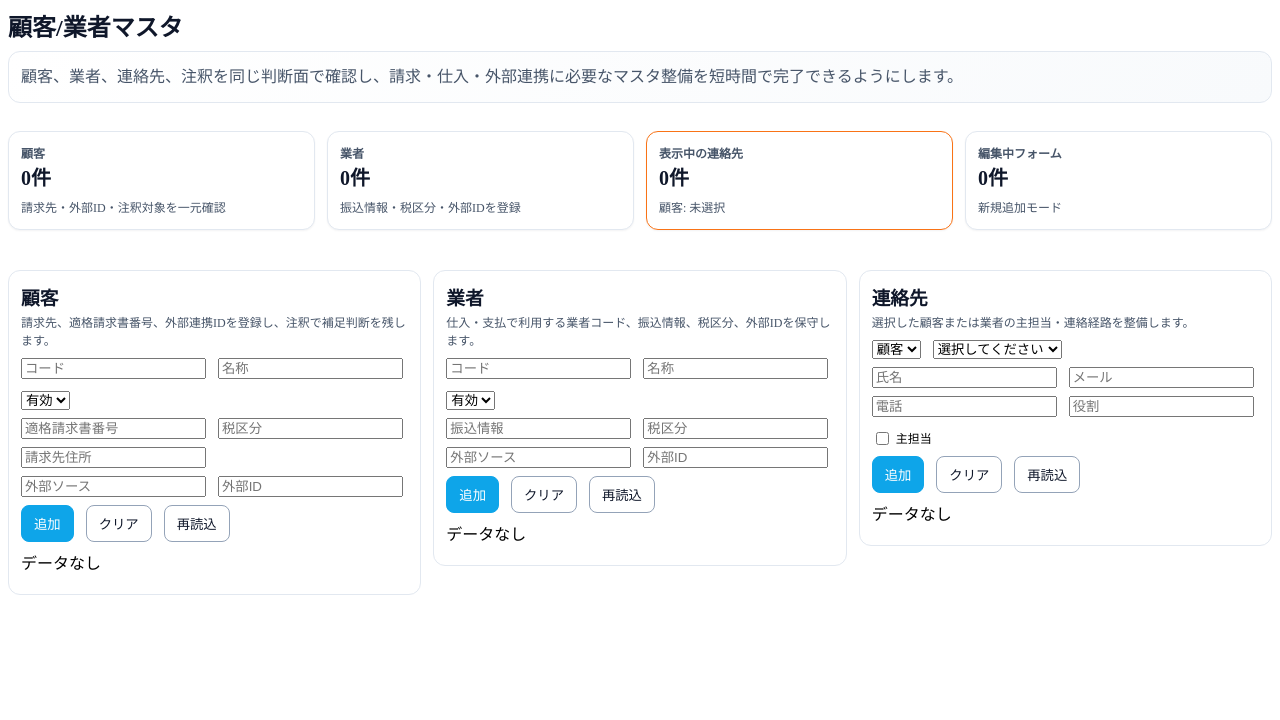
Test: MasterData › creates a vendor and reloads the list
Type "V001" into the field named "業者コード" at (539, 368), box [446, 358, 631, 379]
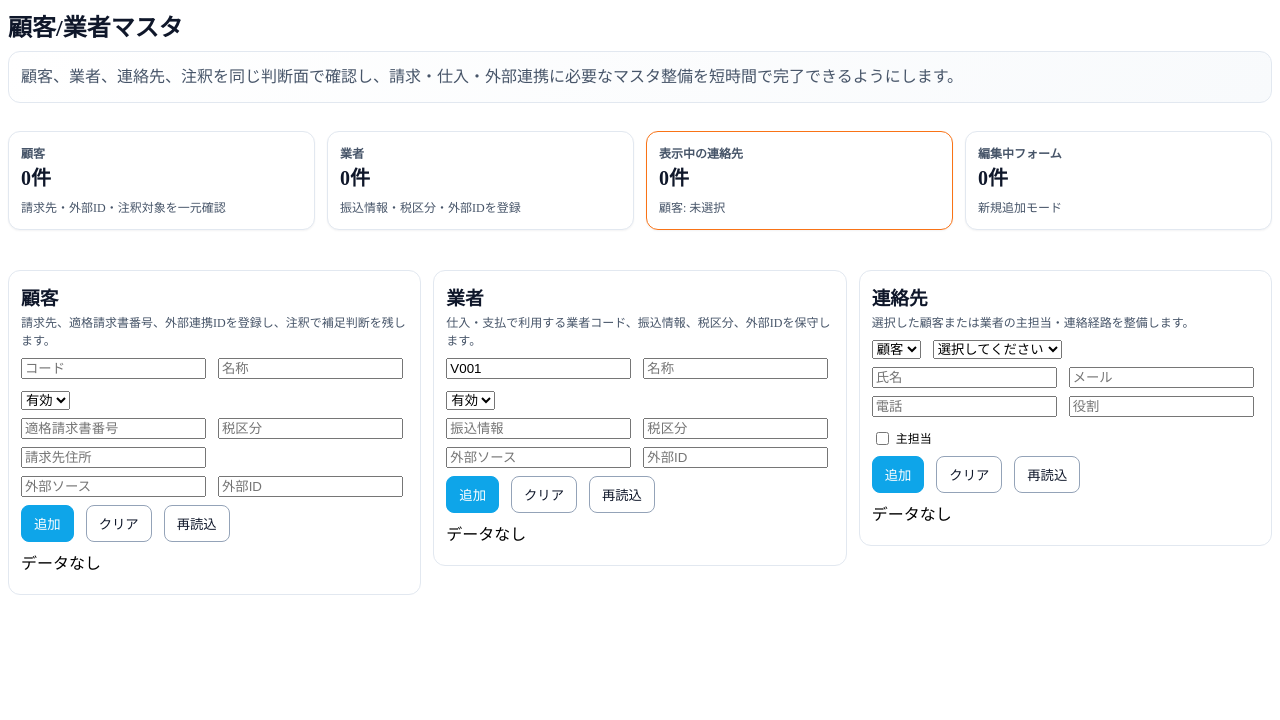
Type "Vendor One" into the field named "業者名称" at (736, 368), box [643, 358, 828, 379]
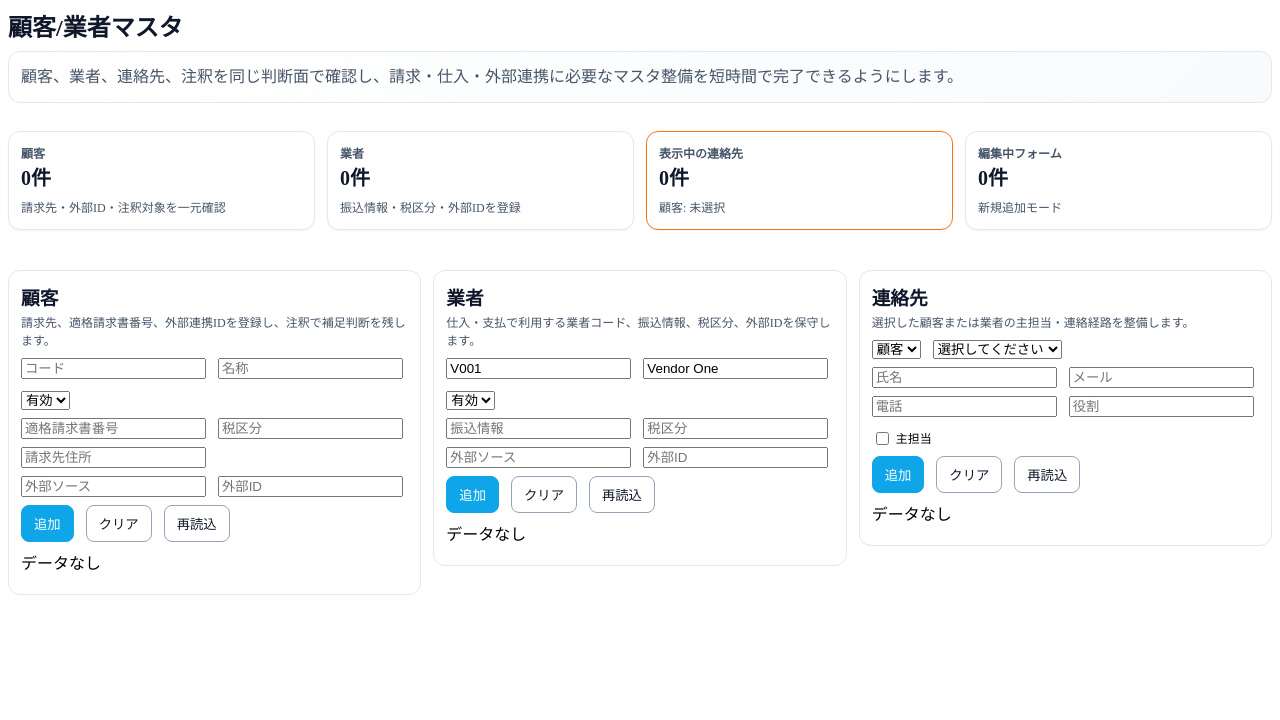
Type "Bank Account" into the field named "業者振込情報" at (539, 428), box [446, 418, 631, 439]
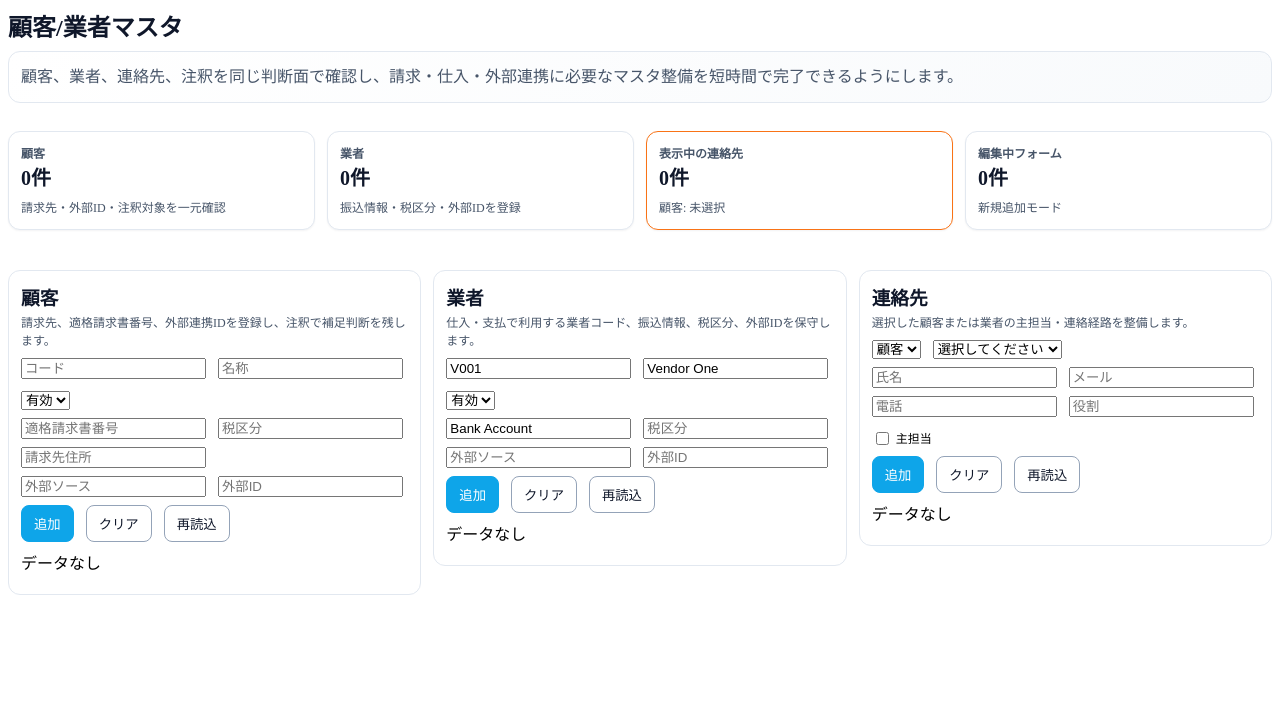
Click the button "追加" below "仕入・支払で利用する業者コード、振込情報、税区分、外部IDを保守します。" at (473, 494), box [446, 476, 499, 513]
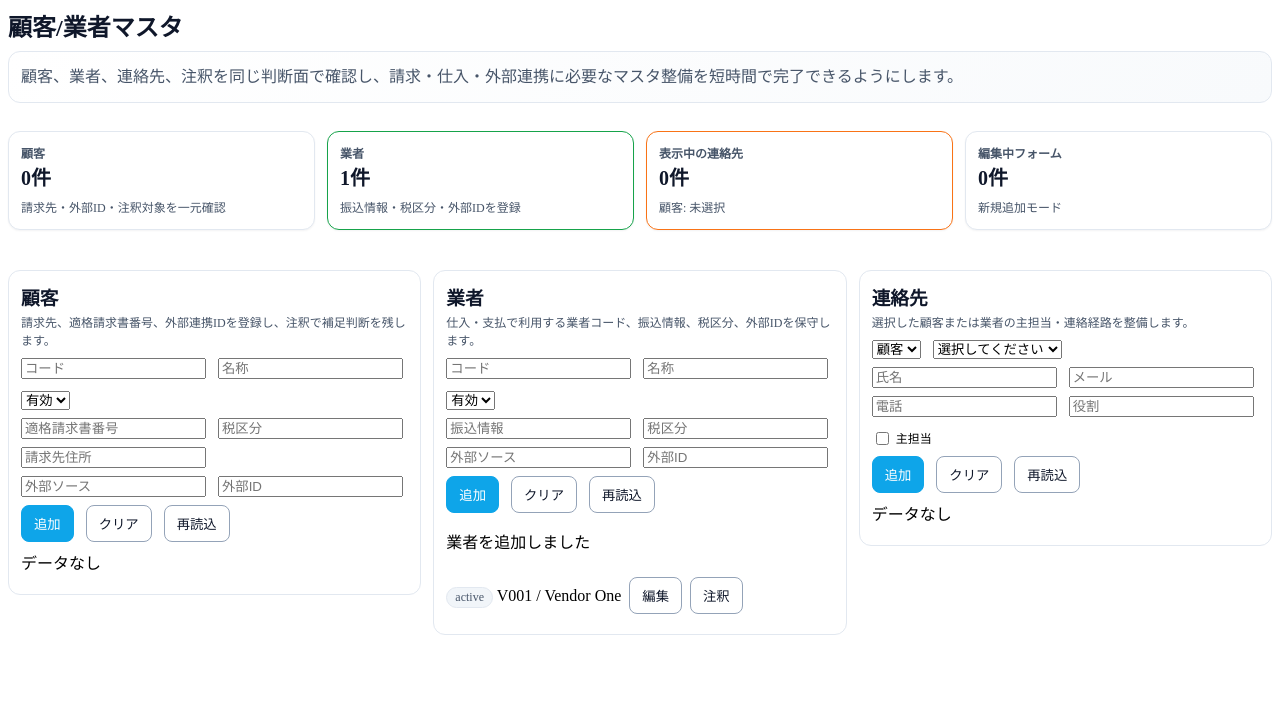
Now the text "業者を追加しました" is shown, box [446, 534, 590, 551]
